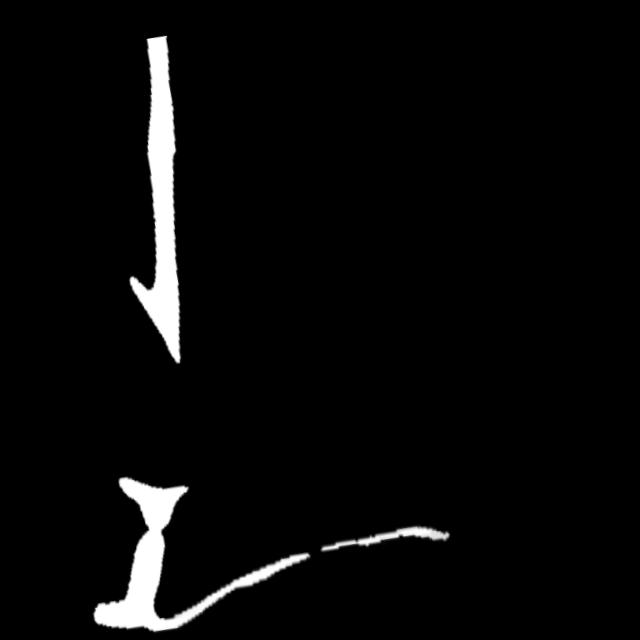sup: (305, 533, 336, 563)
